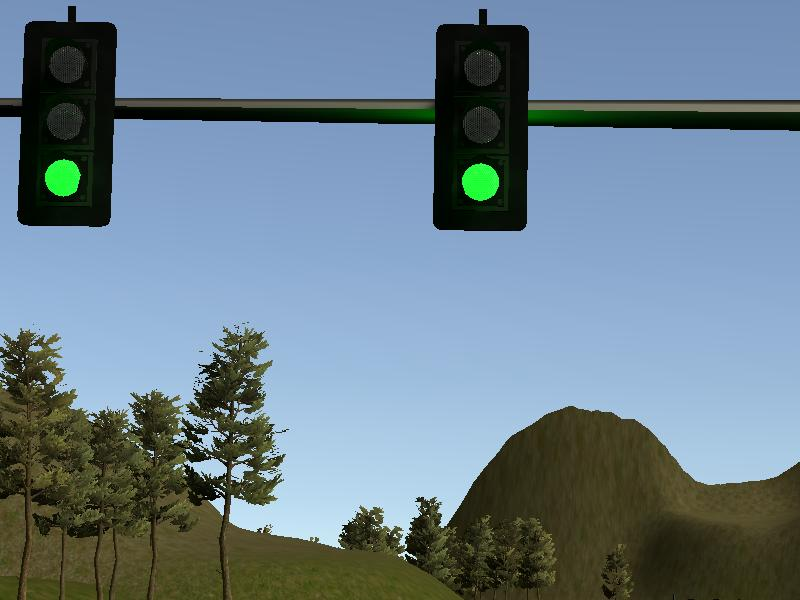green: (432, 23, 529, 232), (18, 19, 114, 229)
